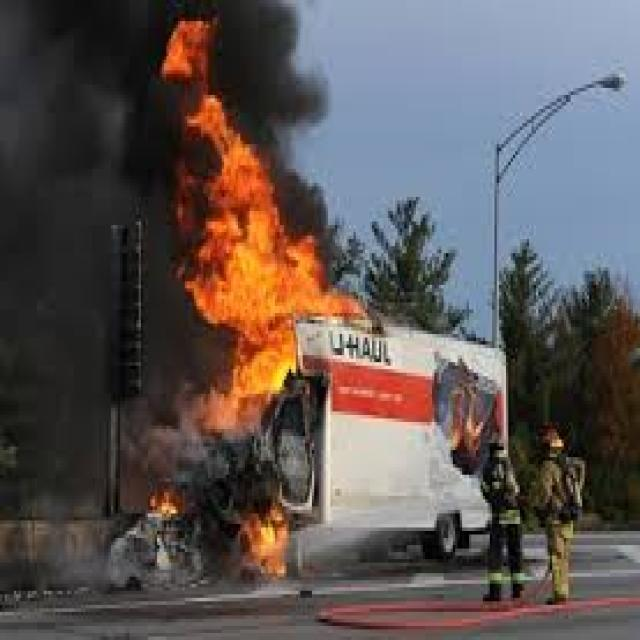Fire: (160, 11, 367, 437), (240, 508, 289, 582), (146, 488, 180, 516)
Smoke: (0, 0, 157, 485)
